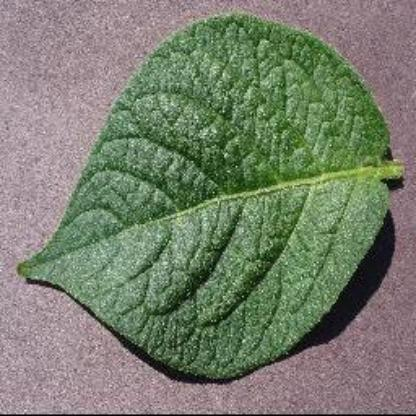Healthy-plant: (20, 9, 402, 385)
